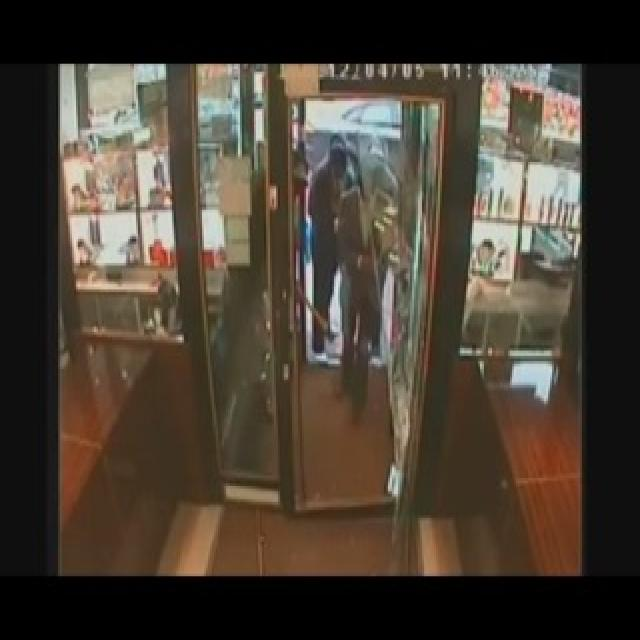thief: (311, 133, 395, 400)
